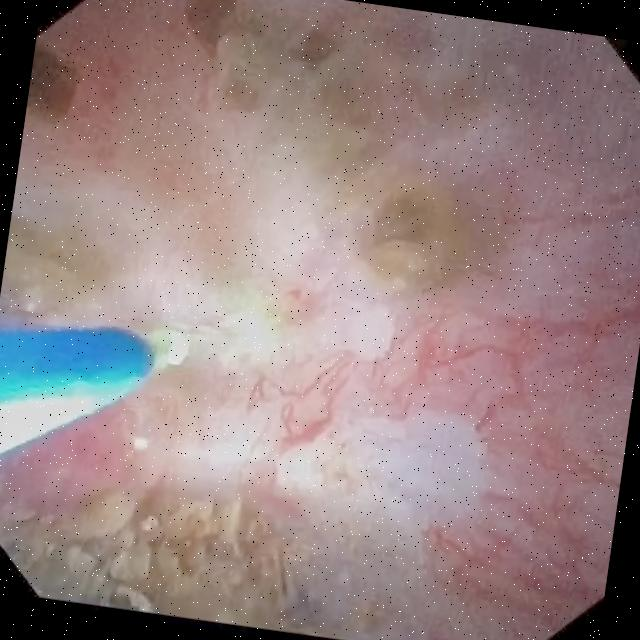laser-fibre: (148, 330, 187, 368)
laser_dot: (224, 305, 280, 359)
stone-new: (0, 492, 338, 636), (188, 0, 392, 139), (357, 184, 492, 292), (0, 217, 100, 317), (27, 43, 78, 123), (283, 20, 283, 21)
